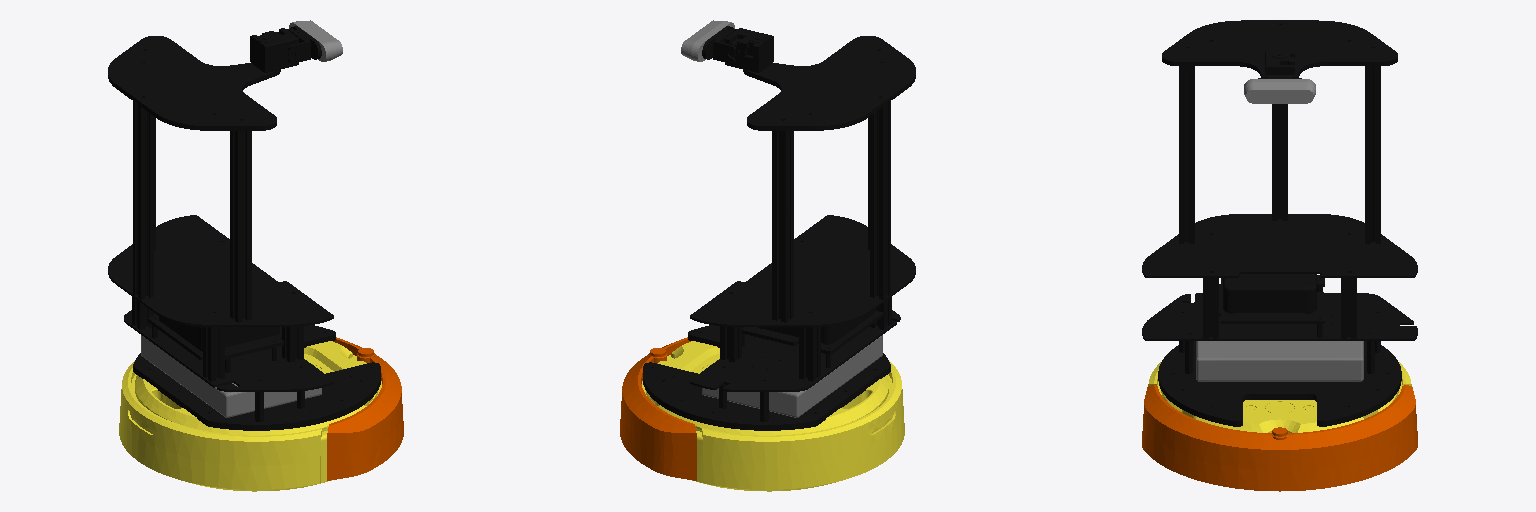
URDF robot description (locobot):
<?xml version="1.0"?>
<!-- Generated by build_robot_description.py from the official description -->
<robot name="locobot">
  <link name="world" />
  <joint name="base_x_joint" type="prismatic">
    <parent link="world" />
    <child link="base_x_link" />
    <origin xyz="0 0 0.0" rpy="0 0 0" />
    <axis xyz="1 0 0" />
    <limit lower="-10.0" upper="10.0" effort="100" velocity="1.0" />
  </joint>
  <link name="base_x_link" />
  <joint name="base_y_joint" type="prismatic">
    <parent link="base_x_link" />
    <child link="base_y_link" />
    <origin xyz="0 0 0.0" rpy="0 0 0" />
    <axis xyz="0 1 0" />
    <limit lower="-10.0" upper="10.0" effort="100" velocity="1.0" />
  </joint>
  <link name="base_y_link" />
  <joint name="base_theta_joint" type="revolute">
    <parent link="base_y_link" />
    <child link="locobot/base_link" />
    <origin xyz="0 0 0.0" rpy="0 0 0" />
    <axis xyz="0 0 1" />
    <limit lower="-3.141592653589793" upper="3.141592653589793" effort="100" velocity="1.0" />
  </joint>
  <material name="interbotix_black">
    <color rgba="0.1 0.1 0.1 1.0" />
  </material>
  <link name="locobot/base_link">
    <visual>
      <origin rpy="0 0 1.5707963267948966" xyz="0 0 0.039200000000000006" />
      <geometry>
        <mesh filename="meshes/body_visual.stl" />
      </geometry>
    </visual>
    <collision name="create3_base_collision">
      <origin rpy="0 0 1.5707963267948966" xyz="0 0 0.04920000000000001" />
      <geometry>
        <cylinder length="0.06" radius="0.16399999999999998" />
      </geometry>
    </collision>
    <inertial>
      <origin xyz="0.0 0 0.0742" />
      <mass value="2.3" />
      <inertia ixx="0.016155199999999998" ixy="0.0" ixz="0.0" iyy="0.016155199999999998" iyz="0.0" izz="0.03093039999999999" />
    </inertial>
  </link>
  <joint name="bump_caster" type="fixed">
    <origin rpy="3.141592653589793 0 1.5707963267948966" xyz="-0.1098 0 0.0110" />
    <parent link="locobot/base_link" />
    <child link="locobot/bump_caster_link" />
  </joint>
  <link name="locobot/bump_caster_link">
    <visual>
      <origin rpy="0 0 0" xyz="0 0 0" />
      <geometry>
        <mesh filename="meshes/bump_caster.stl" />
      </geometry>
      <material name="interbotix_black" />
    </visual>
    <collision>
      <origin rpy="0 1.5707963267948966 0" xyz="0 0 0" />
      <geometry>
        <cylinder length="0.02" radius="0.009" />
      </geometry>
    </collision>
    <inertial>
      <origin rpy="0 0 0" xyz="0 0 0.003407" />
      <mass value="0.0055" />
      <inertia ixx="3.69E-07" ixy="0" ixz="0" iyy="2.96E-07" iyz="0" izz="6.12E-07" />
    </inertial>
  </link>
  <joint name="bump_front_center_joint" type="fixed">
    <parent link="locobot/base_link" />
    <child link="locobot/bump_front_center" />
    <origin xyz="0 0 0.039200000000000006" />
  </joint>
  <link name="locobot/bump_front_center">
    <visual>
      <geometry>
        <mesh filename="meshes/bumper_visual.stl" />
      </geometry>
    </visual>
    <collision>
      <geometry>
        <mesh filename="meshes/bumper_collision.stl" />
      </geometry>
      <origin xyz="0 0 0" rpy="0 0 0" />
    </collision>
    <inertial>
      <origin xyz="0.08 0 0.02" />
      <mass value="0.1" />
      <inertia ixx="0.0013483753405" ixy="0.0000000454352" ixz="0.0000014434849" iyy="0.0002521736852" iyz="-0.0000000006721" izz="0.0015442525386" />
    </inertial>
  </link>
  <joint name="bump_front_left_joint" type="fixed">
    <parent link="locobot/base_link" />
    <child link="locobot/bump_front_left" />
    <origin rpy="0 0 0.5235985" xyz="0.02345 -0.0875 0.025" />
  </joint>
  <link name="locobot/bump_front_left" />
  <joint name="bump_front_right_joint" type="fixed">
    <parent link="locobot/base_link" />
    <child link="locobot/bump_front_right" />
    <origin rpy="0 0 -0.5235985" xyz="0.02345 0.0875 0.025" />
  </joint>
  <link name="locobot/bump_front_right" />
  <joint name="bump_left_joint" type="fixed">
    <parent link="locobot/base_link" />
    <child link="locobot/bump_left" />
    <origin rpy="0 0 1.047193" xyz="0.0875 -0.15155 0.025" />
  </joint>
  <link name="locobot/bump_left" />
  <joint name="bump_right_joint" type="fixed">
    <parent link="locobot/base_link" />
    <child link="locobot/bump_right" />
    <origin rpy="0 0 -1.047193" xyz="0.0875 0.15155 0.025" />
  </joint>
  <link name="locobot/bump_right" />
  <joint name="wheel_drop_left_joint" type="fixed">
    <parent link="locobot/base_link" />
    <child link="locobot/wheel_drop_left" />
    <origin rpy="-1.5707963267948966 0 0" xyz="0 0.1165 0.04020000000000001" />
  </joint>
  <link name="locobot/wheel_drop_left">
    <inertial>
      <mass value="0.05" />
      <origin xyz="0 0 0" />
      <inertia ixx="2.0833333333333336e-05" ixy="0.0" ixz="0.0" iyy="2.0833333333333336e-05" iyz="0.0" izz="2.0833333333333336e-05" />
    </inertial>
  </link>
  <joint name="left_wheel_joint" type="fixed">
    <parent link="locobot/wheel_drop_left" />
    <child link="locobot/left_wheel" />
    <origin rpy="0 0 0" xyz="0 0 0" />
  </joint>
  <link name="locobot/left_wheel">
    <visual>
      <geometry>
        <cylinder length="0.015" radius="0.035750000000000004" />
      </geometry>
      <material name="black">
        <color rgba="0.1 0.1 0.1 1" />
      </material>
    </visual>
    <collision>
      <geometry>
        <cylinder length="0.015" radius="0.035750000000000004" />
      </geometry>
      <origin xyz="0 0 0" rpy="0 0 0" />
    </collision>
    <inertial>
      <origin xyz="0 0 0" />
      <mass value="0.2" />
      <inertia ixx="6.765312500000001e-05" ixy="0.0" ixz="0.0" iyy="6.765312500000001e-05" iyz="0.0" izz="0.00012780625000000003" />
    </inertial>
  </link>
  <joint name="wheel_drop_right_joint" type="fixed">
    <parent link="locobot/base_link" />
    <child link="locobot/wheel_drop_right" />
    <origin rpy="-1.5707963267948966 0 0" xyz="0 -0.1165 0.04020000000000001" />
  </joint>
  <link name="locobot/wheel_drop_right">
    <inertial>
      <mass value="0.05" />
      <origin xyz="0 0 0" />
      <inertia ixx="2.0833333333333336e-05" ixy="0.0" ixz="0.0" iyy="2.0833333333333336e-05" iyz="0.0" izz="2.0833333333333336e-05" />
    </inertial>
  </link>
  <joint name="right_wheel_joint" type="fixed">
    <parent link="locobot/wheel_drop_right" />
    <child link="locobot/right_wheel" />
    <origin rpy="0 0 0" xyz="0 0 0" />
  </joint>
  <link name="locobot/right_wheel">
    <visual>
      <geometry>
        <cylinder length="0.015" radius="0.035750000000000004" />
      </geometry>
      <material name="black">
        <color rgba="0.1 0.1 0.1 1" />
      </material>
    </visual>
    <collision>
      <geometry>
        <cylinder length="0.015" radius="0.035750000000000004" />
      </geometry>
      <origin xyz="0 0 0" rpy="0 0 0" />
    </collision>
    <inertial>
      <origin xyz="0 0 0" />
      <mass value="0.2" />
      <inertia ixx="6.765312500000001e-05" ixy="0.0" ixz="0.0" iyy="6.765312500000001e-05" iyz="0.0" izz="0.00012780625000000003" />
    </inertial>
  </link>
  <joint name="front_caster_joint" type="fixed">
    <parent link="locobot/base_link" />
    <child link="locobot/front_caster_link" />
    <origin rpy="-1.5707963267948966 0 0" xyz="0.125 0 0.012200000000000003" />
  </joint>
  <link name="locobot/front_caster_link">
    <visual>
      <geometry>
        <sphere radius="0.01" />
      </geometry>
      <material name="black">
        <color rgba="0.1 0.1 0.1 1" />
      </material>
    </visual>
    <collision>
      <geometry>
        <sphere radius="0.01" />
      </geometry>
      <origin xyz="0 0 0" rpy="0 0 0" />
    </collision>
    <inertial>
      <mass value="0.01" />
      <inertia ixx="4.0000000000000003e-07" ixy="0.0" ixz="0.0" iyy="4.0000000000000003e-07" iyz="0.0" izz="4.0000000000000003e-07" />
    </inertial>
  </link>
  <joint name="imu_joint" type="fixed">
    <origin xyz="0.050613 0.043673 0.0844" />
    <parent link="locobot/base_link" />
    <child link="locobot/imu_link" />
  </joint>
  <link name="locobot/imu_link">
    <inertial>
      <mass value="0.01" />
      <origin xyz="0 0 0" />
      <inertia ixx="1.6666666666666668e-07" ixy="0.0" ixz="0.0" iyy="1.6666666666666668e-07" iyz="0.0" izz="1.6666666666666668e-07" />
    </inertial>
  </link>
  <joint name="mouse_joint" type="fixed">
    <origin rpy="0 0 -0.7853981633974483" xyz="0.1015 0.087 0.009200000000000007" />
    <parent link="locobot/base_link" />
    <child link="locobot/mouse" />
  </joint>
  <link name="locobot/mouse">
    <inertial>
      <mass value="0.01" />
      <origin xyz="0 0 0" />
      <inertia ixx="1.6666666666666668e-07" ixy="0.0" ixz="0.0" iyy="1.6666666666666668e-07" iyz="0.0" izz="1.6666666666666668e-07" />
    </inertial>
  </link>
  <joint name="cliff_side_left_joint" type="fixed">
    <origin rpy="0 1.3962634015954636 2.921681167838508" xyz="0.06 0.145 0.01920000000000001" />
    <parent link="locobot/base_link" />
    <child link="cliff_side_left" />
  </joint>
  <link name="cliff_side_left">
    <inertial>
      <mass value="0.01" />
      <origin xyz="0 0 0" />
      <inertia ixx="1.6666666666666668e-07" ixy="0.0" ixz="0.0" iyy="1.6666666666666668e-07" iyz="0.0" izz="1.6666666666666668e-07" />
    </inertial>
  </link>
  <joint name="cliff_side_right_joint" type="fixed">
    <origin rpy="0 1.3962634015954636 -2.921681167838508" xyz="0.06 -0.145 0.01920000000000001" />
    <parent link="locobot/base_link" />
    <child link="cliff_side_right" />
  </joint>
  <link name="cliff_side_right">
    <inertial>
      <mass value="0.01" />
      <origin xyz="0 0 0" />
      <inertia ixx="1.6666666666666668e-07" ixy="0.0" ixz="0.0" iyy="1.6666666666666668e-07" iyz="0.0" izz="1.6666666666666668e-07" />
    </inertial>
  </link>
  <joint name="cliff_front_left_joint" type="fixed">
    <origin rpy="0 1.3962634015954636 1.1397000015522971" xyz="0.16 0.045 0.01920000000000001" />
    <parent link="locobot/base_link" />
    <child link="cliff_front_left" />
  </joint>
  <link name="cliff_front_left">
    <inertial>
      <mass value="0.01" />
      <origin xyz="0 0 0" />
      <inertia ixx="1.6666666666666668e-07" ixy="0.0" ixz="0.0" iyy="1.6666666666666668e-07" iyz="0.0" izz="1.6666666666666668e-07" />
    </inertial>
  </link>
  <joint name="cliff_front_right_joint" type="fixed">
    <origin rpy="0 1.3962634015954636 -1.1397000015522971" xyz="0.16 -0.045 0.01920000000000001" />
    <parent link="locobot/base_link" />
    <child link="cliff_front_right" />
  </joint>
  <link name="cliff_front_right">
    <inertial>
      <mass value="0.01" />
      <origin xyz="0 0 0" />
      <inertia ixx="1.6666666666666668e-07" ixy="0.0" ixz="0.0" iyy="1.6666666666666668e-07" iyz="0.0" izz="1.6666666666666668e-07" />
    </inertial>
  </link>
  <joint name="locobot/ir_intensity_front_center_left_joint" type="fixed">
    <origin xyz="0.1540 0 0.05720000000000001" />
    <parent link="locobot/base_link" />
    <child link="locobot/ir_intensity_front_center_left" />
  </joint>
  <link name="locobot/ir_intensity_front_center_left">
    <inertial>
      <mass value="0.01" />
      <origin xyz="0 0 0" />
      <inertia ixx="1.6666666666666668e-07" ixy="0.0" ixz="0.0" iyy="1.6666666666666668e-07" iyz="0.0" izz="1.6666666666666668e-07" />
    </inertial>
  </link>
  <joint name="locobot/ir_intensity_front_center_right_joint" type="fixed">
    <origin rpy="0 0 -0.436" xyz="0.1396 -0.0651 0.05720000000000001" />
    <parent link="locobot/base_link" />
    <child link="locobot/ir_intensity_front_center_right" />
  </joint>
  <link name="locobot/ir_intensity_front_center_right">
    <inertial>
      <mass value="0.01" />
      <origin xyz="0 0 0" />
      <inertia ixx="1.6666666666666668e-07" ixy="0.0" ixz="0.0" iyy="1.6666666666666668e-07" iyz="0.0" izz="1.6666666666666668e-07" />
    </inertial>
  </link>
  <joint name="locobot/ir_intensity_front_left_joint" type="fixed">
    <origin rpy="0 0 0.436" xyz="0.1396 0.0651 0.05720000000000001" />
    <parent link="locobot/base_link" />
    <child link="locobot/ir_intensity_front_left" />
  </joint>
  <link name="locobot/ir_intensity_front_left">
    <inertial>
      <mass value="0.01" />
      <origin xyz="0 0 0" />
      <inertia ixx="1.6666666666666668e-07" ixy="0.0" ixz="0.0" iyy="1.6666666666666668e-07" iyz="0.0" izz="1.6666666666666668e-07" />
    </inertial>
  </link>
  <joint name="locobot/ir_intensity_front_right_joint" type="fixed">
    <origin rpy="0 0 -0.873" xyz="0.0990 -0.1180 0.05720000000000001" />
    <parent link="locobot/base_link" />
    <child link="locobot/ir_intensity_front_right" />
  </joint>
  <link name="locobot/ir_intensity_front_right">
    <inertial>
      <mass value="0.01" />
      <origin xyz="0 0 0" />
      <inertia ixx="1.6666666666666668e-07" ixy="0.0" ixz="0.0" iyy="1.6666666666666668e-07" iyz="0.0" izz="1.6666666666666668e-07" />
    </inertial>
  </link>
  <joint name="locobot/ir_intensity_left_joint" type="fixed">
    <origin rpy="0 0 0.873" xyz="0.0990 0.1180 0.05720000000000001" />
    <parent link="locobot/base_link" />
    <child link="locobot/ir_intensity_left" />
  </joint>
  <link name="locobot/ir_intensity_left">
    <inertial>
      <mass value="0.01" />
      <origin xyz="0 0 0" />
      <inertia ixx="1.6666666666666668e-07" ixy="0.0" ixz="0.0" iyy="1.6666666666666668e-07" iyz="0.0" izz="1.6666666666666668e-07" />
    </inertial>
  </link>
  <joint name="locobot/ir_intensity_right_joint" type="fixed">
    <origin rpy="0 0 -1.309" xyz="0.0399 -0.1488 0.05720000000000001" />
    <parent link="locobot/base_link" />
    <child link="locobot/ir_intensity_right" />
  </joint>
  <link name="locobot/ir_intensity_right">
    <inertial>
      <mass value="0.01" />
      <origin xyz="0 0 0" />
      <inertia ixx="1.6666666666666668e-07" ixy="0.0" ixz="0.0" iyy="1.6666666666666668e-07" iyz="0.0" izz="1.6666666666666668e-07" />
    </inertial>
  </link>
  <joint name="locobot/ir_intensity_side_left_joint" type="fixed">
    <origin rpy="0 0 1.309" xyz="0.0399 0.1488 0.05720000000000001" />
    <parent link="locobot/base_link" />
    <child link="locobot/ir_intensity_side_left" />
  </joint>
  <link name="locobot/ir_intensity_side_left">
    <inertial>
      <mass value="0.01" />
      <origin xyz="0 0 0" />
      <inertia ixx="1.6666666666666668e-07" ixy="0.0" ixz="0.0" iyy="1.6666666666666668e-07" iyz="0.0" izz="1.6666666666666668e-07" />
    </inertial>
  </link>
  <joint name="button_1_joint" type="fixed">
    <parent link="locobot/base_link" />
    <child link="locobot/button_1" />
    <origin rpy="0 -1.5707963267948966 0" xyz="0.06 0.037 0.1442" />
  </joint>
  <link name="locobot/button_1" />
  <joint name="button_2_joint" type="fixed">
    <parent link="locobot/base_link" />
    <child link="locobot/button_2" />
    <origin rpy="0 -1.5707963267948966 0" xyz="0.06 -0.037 0.1442" />
  </joint>
  <link name="locobot/button_2" />
  <joint name="button_power_joint" type="fixed">
    <parent link="locobot/base_link" />
    <child link="locobot/button_power" />
    <origin rpy="0 -1.5707963267948966 0" xyz="0.06 0 0.1442" />
  </joint>
  <link name="locobot/button_power" />
  <joint name="ir_omni_joint" type="fixed">
    <origin xyz="0.153 0 0.09920000000000001" />
    <parent link="locobot/base_link" />
    <child link="locobot/ir_omni" />
  </joint>
  <link name="locobot/ir_omni">
    <inertial>
      <mass value="0.01" />
      <origin xyz="0 0 0" />
      <inertia ixx="1.6666666666666668e-07" ixy="0.0" ixz="0.0" iyy="1.6666666666666668e-07" iyz="0.0" izz="1.6666666666666668e-07" />
    </inertial>
  </link>
  <joint name="plate" type="fixed">
    <origin rpy="0 0 0" xyz="0 0 0.0934" />
    <parent link="locobot/base_link" />
    <child link="locobot/plate_link" />
  </joint>
  <link name="locobot/plate_link">
    <visual>
      <origin rpy="0 0 0" xyz="0 0 0" />
      <geometry>
        <mesh filename="meshes/locobot_base_plate.stl" scale="1 1 1" />
      </geometry>
      <material name="interbotix_black" />
    </visual>
    <collision>
      <origin rpy="0 0 0" xyz="0 0 0" />
      <geometry>
        <mesh filename="meshes/locobot_base_plate.stl" scale="1 1 1" />
      </geometry>
    </collision>
    <inertial>
      <origin rpy="0 0 0" xyz="-0.005869 0 4.67E-03" />
      <mass value="0.807674" />
      <inertia ixx="5.27E-03" ixy="0" ixz="0" iyy="3.27E-03" iyz="0" izz="8.54E-03" />
    </inertial>
  </link>
  <joint name="battery" type="fixed">
    <origin rpy="0 0 0" xyz="-0.0345 0 0.010763" />
    <parent link="locobot/plate_link" />
    <child link="locobot/battery_link" />
  </joint>
  <link name="locobot/battery_link">
    <visual>
      <origin rpy="0 0 0" xyz="0 0 0" />
      <geometry>
        <mesh filename="meshes/locobot_battery.stl" scale="0.001 0.001 0.001" />
      </geometry>
      <material name="">
        <color rgba="0.5 0.5 0.5 1" />
      </material>
    </visual>
    <collision>
      <origin rpy="0 0 0" xyz="0 0 0" />
      <geometry>
        <mesh filename="meshes/locobot_battery.stl" scale="0.001 0.001 0.001" />
      </geometry>
    </collision>
    <inertial>
      <origin rpy="0 0 0" xyz="0 0 0.016" />
      <mass value="1.194" />
      <inertia ixx="0.004312" ixy="0" ixz="0" iyy="0.001908" iyz="0" izz="0.006017" />
    </inertial>
  </link>
  <joint name="camera_tower" type="fixed">
    <origin rpy="0 0 0" xyz="-0.048271 0 0.10087" />
    <parent link="locobot/base_link" />
    <child link="locobot/camera_tower_link" />
  </joint>
  <link name="locobot/camera_tower_link">
    <visual>
      <origin rpy="0 0 0" xyz="0 0 0" />
      <geometry>
        <mesh filename="meshes/locobot_camera_tower_small.stl" scale="1 1 1" />
      </geometry>
      <material name="interbotix_black" />
    </visual>
    <collision>
      <origin rpy="0 0 0" xyz="0 0 0" />
      <geometry>
        <mesh filename="meshes/locobot_camera_tower_small_simple.stl" scale="1 1 1" />
      </geometry>
    </collision>
    <inertial>
      <origin rpy="0 0 0" xyz="-0.024689 -0.003432 0.185408" />
      <mass value="2.430647" />
      <inertia ixx="5.63E-02" ixy="1.37E-04" ixz="5.75E-03" iyy="4.78E-02" iyz="-7.70E-04" izz="1.86E-02" />
    </inertial>
  </link>
  <joint name="pan" type="revolute">
    <axis xyz="0 0 1" />
    <limit effort="2" lower="-1.5707963267948966" upper="1.5707963267948966" velocity="3.141592653589793" />
    <origin rpy="0 0 0" xyz="0.061228 0 0.402" />
    <parent link="locobot/camera_tower_link" />
    <child link="locobot/pan_link" />
    <dynamics damping="0.1" friction="0.1" />
  </joint>
  <link name="locobot/pan_link">
    <visual>
      <origin rpy="0 0 1.5707963267948966" xyz="0 0 0" />
      <geometry>
        <mesh filename="meshes/locobot_pan.stl" scale="0.001 0.001 0.001" />
      </geometry>
      <material name="interbotix_black" />
    </visual>
    <collision>
      <origin rpy="0 0 1.5707963267948966" xyz="0 0 0" />
      <geometry>
        <mesh filename="meshes/locobot_pan.stl" scale="0.001 0.001 0.001" />
      </geometry>
    </collision>
    <inertial>
      <origin rpy="0 0 1.5707963267948966" xyz="0.012 0.000496 0.018504" />
      <mass value="0.098997" />
      <inertia ixx="0.0000276300" ixy="0.0000000418" ixz="0.0000005145" iyy="0.0000204300" iyz="-0.0000000421" izz="0.0000276300" />
    </inertial>
  </link>
  <joint name="tilt" type="revolute">
    <axis xyz="0 1 0" />
    <limit effort="2" lower="-1.5707963267948966" upper="1.3089969389957472" velocity="3.141592653589793" />
    <origin rpy="0 0 0" xyz="0.025034 0 0.019" />
    <parent link="locobot/pan_link" />
    <child link="locobot/tilt_link" />
    <dynamics damping="0.1" friction="0.1" />
  </joint>
  <link name="locobot/tilt_link">
    <visual>
      <origin rpy="0 0 1.5707963267948966" xyz="0 0 0" />
      <geometry>
        <mesh filename="meshes/locobot_tilt.stl" scale="0.001 0.001 0.001" />
      </geometry>
      <material name="interbotix_black" />
    </visual>
    <collision>
      <origin rpy="0 0 1.5707963267948966" xyz="0 0 0" />
      <geometry>
        <mesh filename="meshes/locobot_tilt.stl" scale="0.001 0.001 0.001" />
      </geometry>
    </collision>
    <inertial>
      <origin rpy="0 0 1.5707963267948966" xyz="0.0237737000 -0.0000016331 0.0000077432" />
      <mass value="0.019845" />
      <inertia ixx="0.0000021677" ixy="0.0000000000" ixz="0.0000000001" iyy="0.0000063634" iyz="0.0000000003" izz="0.0000066157" />
    </inertial>
  </link>
  <joint name="camera" type="fixed">
    <origin rpy="0 0 0" xyz="0.05318 0.0175 0.000009" />
    <parent link="locobot/tilt_link" />
    <child link="camera_locobot_link" />
  </joint>
  <link name="camera_locobot_link">
    <visual>
      <origin rpy="0 0 0" xyz="0 0 0" />
      <geometry>
        <mesh filename="meshes/locobot_camera.stl" scale="0.001 0.001 0.001" />
      </geometry>
      <material name="">
        <color rgba="0.55 0.55 0.55 1" />
      </material>
    </visual>
    <collision>
      <origin rpy="0 0 0" xyz="0 0 0" />
      <geometry>
        <mesh filename="meshes/locobot_camera.stl" scale="0.001 0.001 0.001" />
      </geometry>
    </collision>
    <inertial>
      <origin rpy="0 0 0" xyz="-0.008972 -0.015818 0.000003" />
      <mass value="0.072" />
      <inertia ixx="0.0000465400" ixy="0.0000003028" ixz="0.0000000245" iyy="0.0000069128" iyz="0.0000000248" izz="0.0000468600" />
    </inertial>
  </link>
  <joint name="camera_depth_joint" type="fixed">
    <origin rpy="-1.5707963267948966 0 -1.5707963267948966" xyz="0 0 0" />
    <parent link="camera_locobot_link" />
    <child link="locobot/camera_depth_link" />
  </joint>
  <link name="locobot/camera_depth_link">
    <origin rpy="0 0 0" xyz="0 0 0" />
  </link>
</robot>

--- Facts derived from the render (not from the file) ---
The picture shows the robot from 3 angles, left to right: view 1: azimuth 30°, elevation 25°; view 2: azimuth 150°, elevation 25°; view 3: azimuth 270°, elevation 25°; orthographic projection.
Robot: locobot — 39 links, 38 joints (3 revolute, 2 prismatic, 33 fixed); root link world; default pose: all joints at 0.
Visible links, largest first — view 1: locobot/camera_tower_link, locobot/base_link, locobot/plate_link, locobot/bump_front_center, locobot/battery_link, locobot/pan_link, camera_locobot_link, locobot/tilt_link; view 2: locobot/camera_tower_link, locobot/base_link, locobot/plate_link, locobot/bump_front_center, locobot/battery_link, locobot/pan_link, camera_locobot_link, locobot/tilt_link; view 3: locobot/camera_tower_link, locobot/bump_front_center, locobot/plate_link, locobot/battery_link, locobot/base_link, camera_locobot_link, locobot/pan_link.
Boxes of the visible links, <box> form: locobot/camera_tower_link: <box>108,36,333,421</box>; locobot/base_link: <box>119,341,381,491</box>; locobot/plate_link: <box>133,325,380,430</box>; locobot/bump_front_center: <box>327,337,403,480</box>; locobot/battery_link: <box>141,335,321,417</box>; locobot/pan_link: <box>250,28,298,72</box>; camera_locobot_link: <box>289,20,342,61</box>; locobot/tilt_link: <box>275,26,321,63</box>; locobot/camera_tower_link: <box>690,36,915,421</box>; locobot/base_link: <box>642,341,904,491</box>; locobot/plate_link: <box>643,325,890,430</box>; locobot/bump_front_center: <box>620,337,696,480</box>; locobot/battery_link: <box>702,335,882,417</box>; locobot/pan_link: <box>725,28,773,72</box>; camera_locobot_link: <box>681,20,734,61</box>; locobot/tilt_link: <box>702,26,736,63</box>; locobot/camera_tower_link: <box>1142,20,1417,373</box>; locobot/bump_front_center: <box>1142,385,1417,491</box>; locobot/plate_link: <box>1158,341,1401,426</box>; locobot/battery_link: <box>1196,341,1363,381</box>; locobot/base_link: <box>1148,362,1411,432</box>; camera_locobot_link: <box>1244,79,1315,103</box>; locobot/pan_link: <box>1265,51,1294,74</box>.
Bounding box of the posed robot: 0.3448 × 0.3408 × 0.5401 m (x, y, z).
9 mesh visuals loaded from 9 distinct referenced files (9 binary STL).
